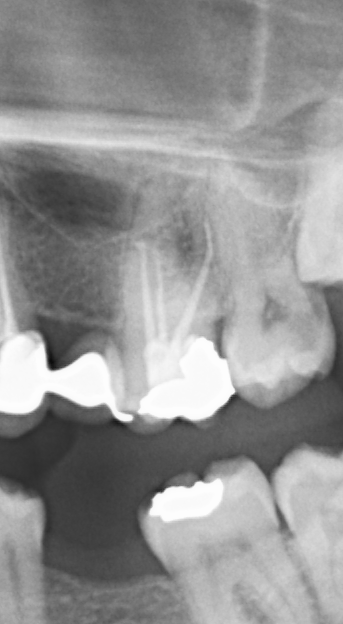fracture: (200, 219, 216, 253)
